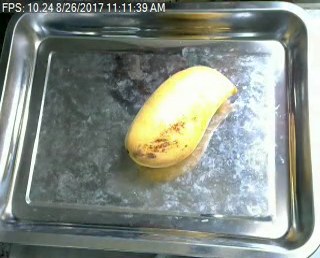Mango: (125, 61, 238, 170)
